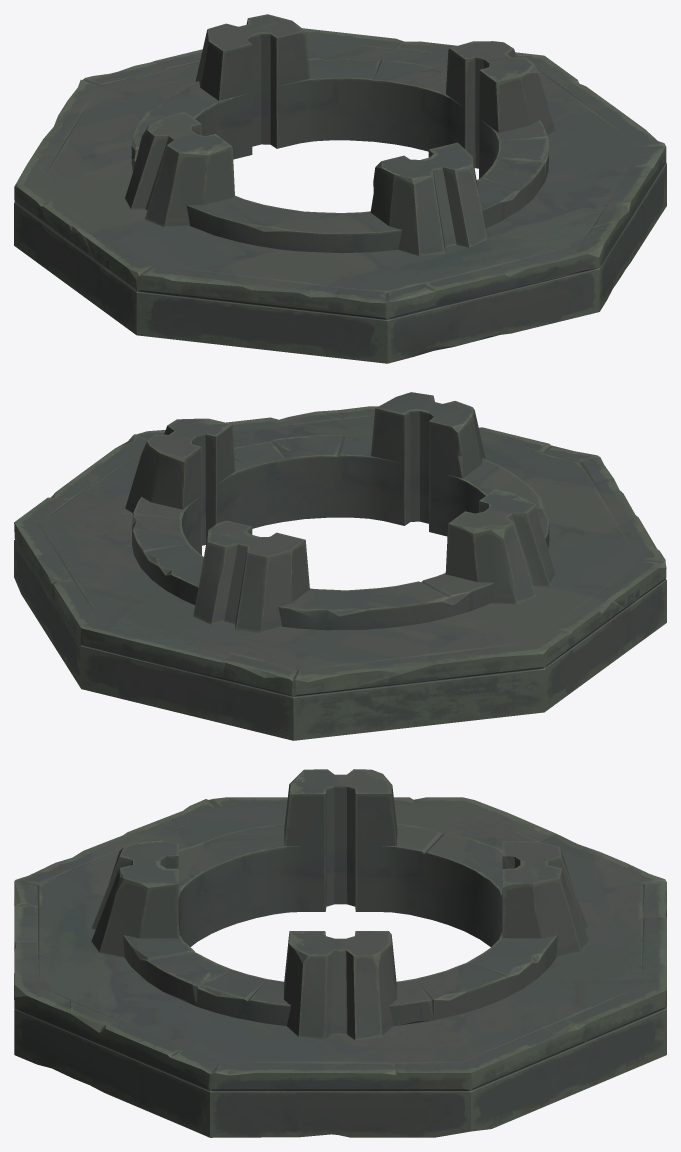
Rendered from ElevatorBase.fbx.
The picture shows the model from 3 angles, top to bottom: view 1: azimuth 30°, elevation 25°; view 2: azimuth 150°, elevation 25°; view 3: azimuth 270°, elevation 25°; orthographic projection. The views are drawn at different scales.
Visible parts, largest first — view 1: ElevatorFloor_uv1, BaseElevatorDecim_uv1; view 2: ElevatorFloor_uv1, BaseElevatorDecim_uv1; view 3: ElevatorFloor_uv1, BaseElevatorDecim_uv1.
Boxes of the visible parts, x1,y1,x2,y2 form: ElevatorFloor_uv1: (14,28,666,363); BaseElevatorDecim_uv1: (125,14,555,255); ElevatorFloor_uv1: (14,406,666,740); BaseElevatorDecim_uv1: (125,392,555,632); ElevatorFloor_uv1: (14,797,666,1137); BaseElevatorDecim_uv1: (91,769,589,1040).
Bounding box in the file's own units: 2161 × 502 × 2161.
